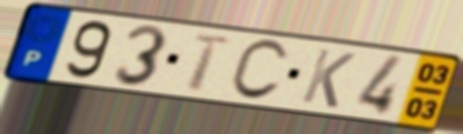3: (112, 23, 172, 89)
4: (352, 53, 406, 119)
9: (63, 20, 114, 80)
C: (226, 37, 292, 103)
K: (297, 46, 359, 111)
T: (186, 31, 235, 94)
